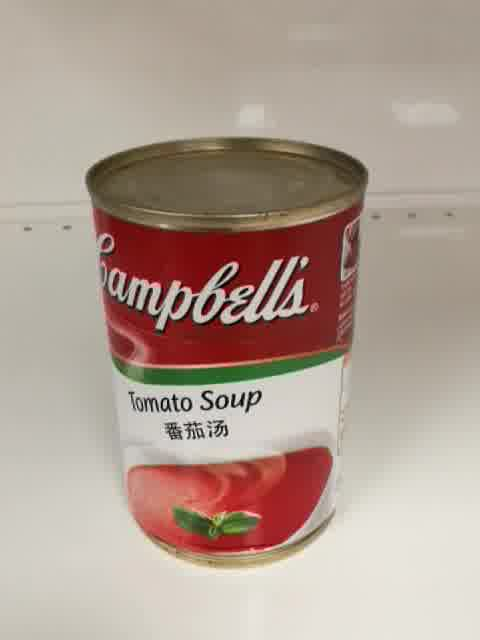tomatosoup: (84, 136, 369, 572)
